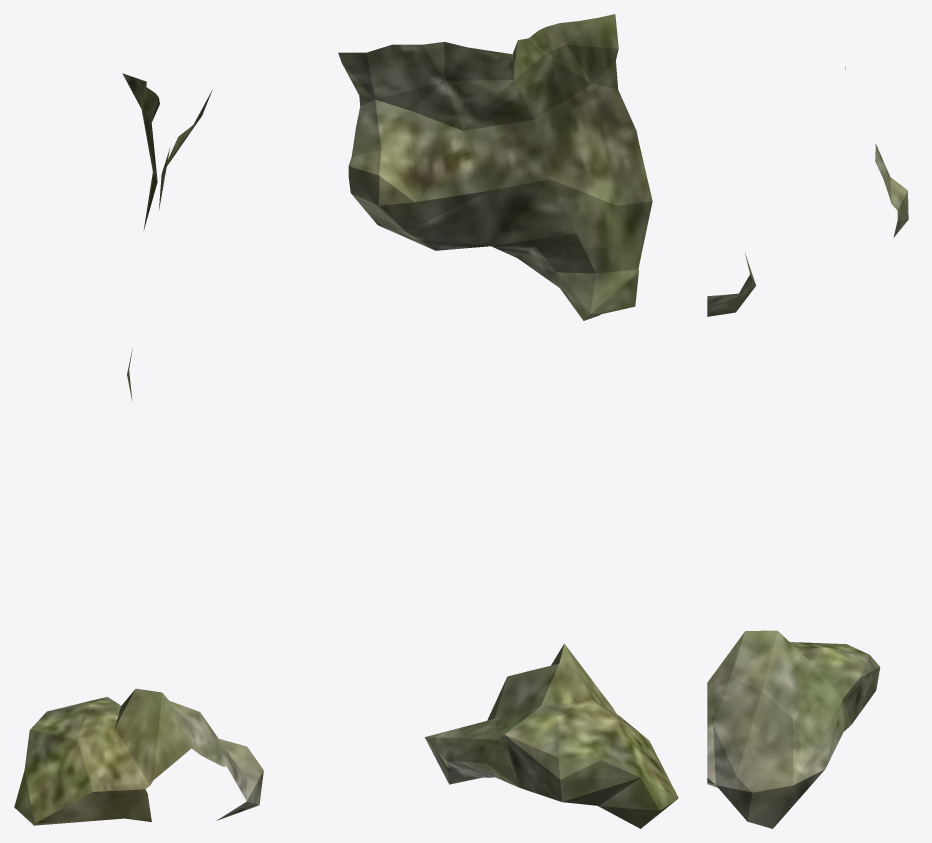
3 renders of one model, left to right at view 1: azimuth 30°, elevation 25°; view 2: azimuth 150°, elevation 25°; view 3: azimuth 270°, elevation 25°, orthographic. The views are drawn at different scales.
Bounding box in the file's own units: 1.31 × 3.7 × 0.9381.
Materials: 1 (1 with a texture image).
